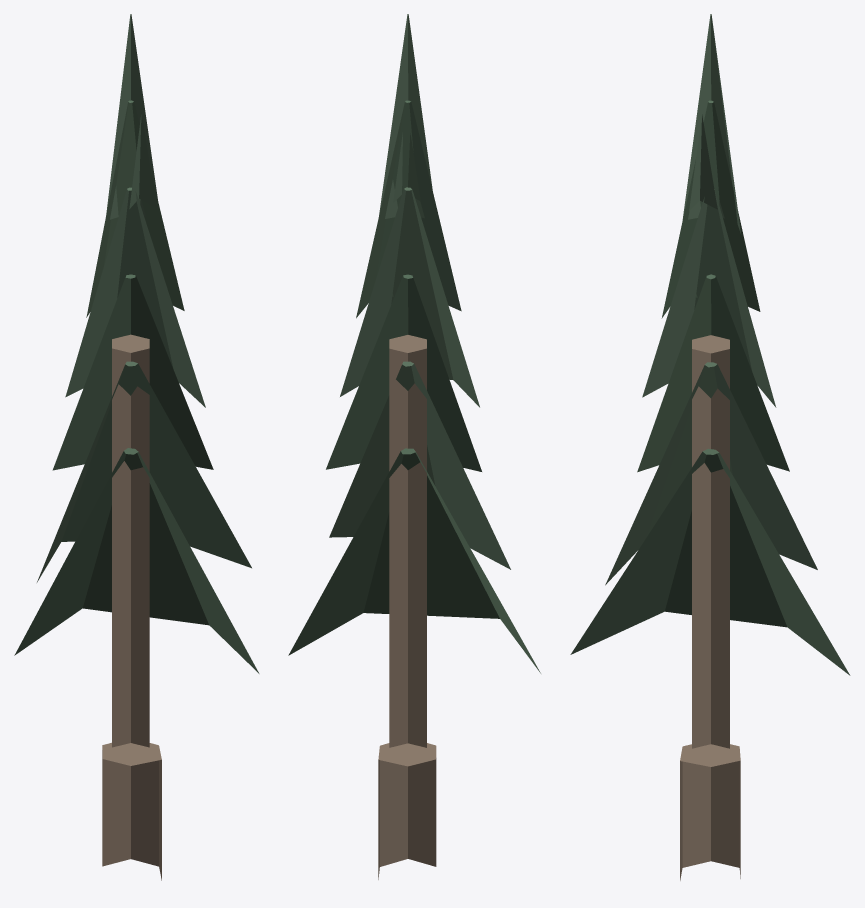
Rendered from shu.lengshan@subadult__spring.glb.
3 renders of one model, left to right at view 1: azimuth 30°, elevation 25°; view 2: azimuth 150°, elevation 25°; view 3: azimuth 270°, elevation 25°, orthographic.
Visible parts, largest first — view 1: shu.lengshan@subadult__spring; view 2: shu.lengshan@subadult__spring; view 3: shu.lengshan@subadult__spring.
Part boxes in pixels (x1,y1,x2,y2): shu.lengshan@subadult__spring: (14,14,259,880); shu.lengshan@subadult__spring: (288,14,540,879); shu.lengshan@subadult__spring: (570,14,850,880).
Size of the model in its own units: 3.1 by 12.07 by 3.57.
